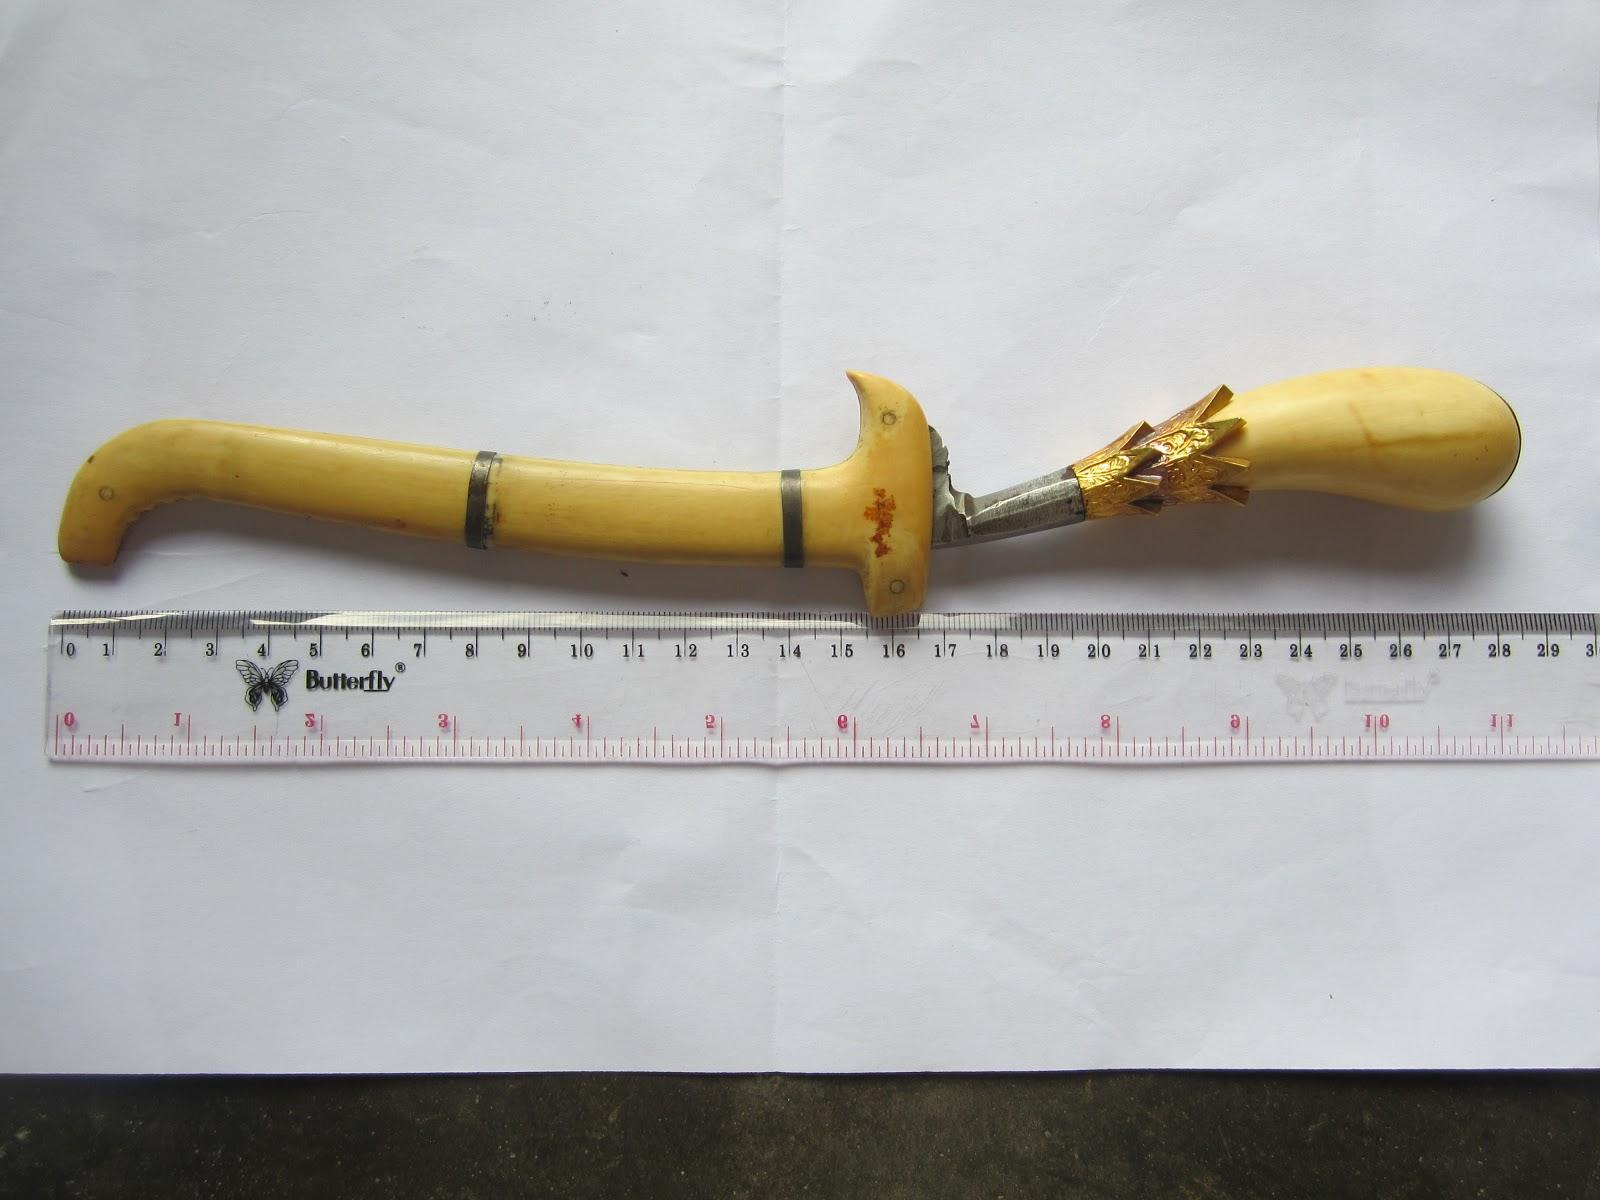facao: (60, 371, 1519, 616)
